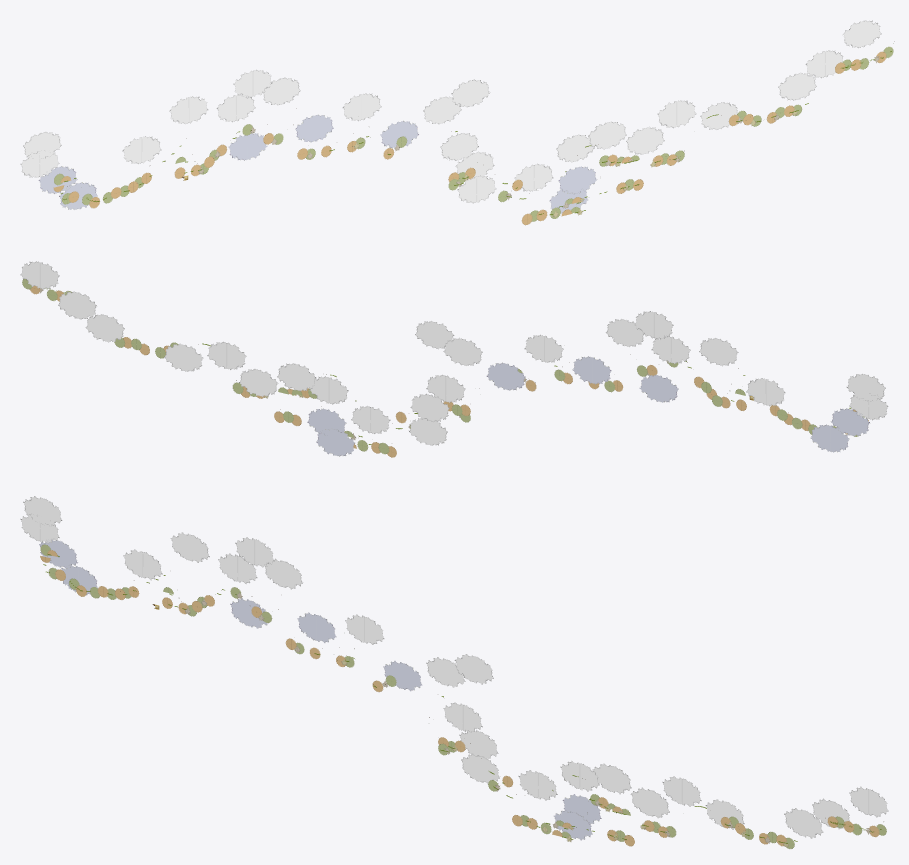
File: yama01_bg.glb
The picture shows the model from 3 angles, top to bottom: view 1: azimuth 30°, elevation 25°; view 2: azimuth 150°, elevation 25°; view 3: azimuth 330°, elevation 25°; orthographic projection.
Visible parts, largest first — view 1: yama01_bg; view 2: yama01_bg; view 3: yama01_bg.
Part boxes in pixels (x1=…): yama01_bg: x1=20, y1=20, x2=894, y2=225; yama01_bg: x1=20, y1=261, x2=888, y2=457; yama01_bg: x1=20, y1=496, x2=888, y2=848.
Size of the model in its own units: 7987 by 1930 by 239.
11 materials, 11 textured.
